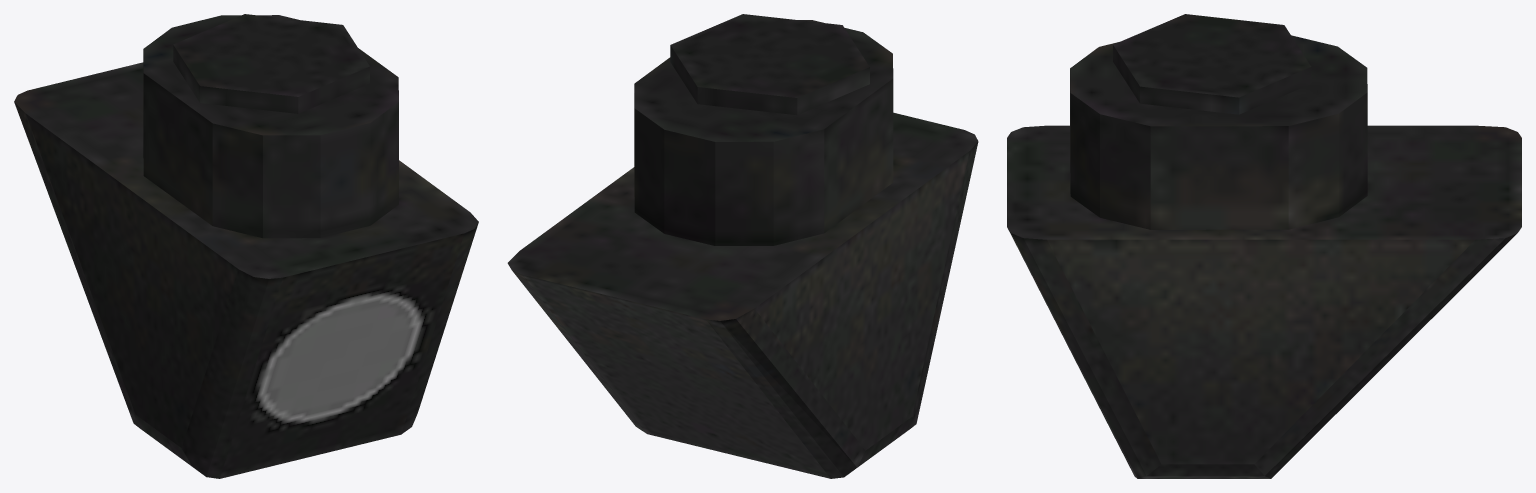
The picture shows the model from 3 angles, left to right: view 1: azimuth 30°, elevation 25°; view 2: azimuth 150°, elevation 25°; view 3: azimuth 270°, elevation 25°; orthographic projection.
Visible parts, largest first — view 1: TW_5a6f58f68dc32e000a311390_PZ_Import; view 2: TW_5a6f58f68dc32e000a311390_PZ_Import; view 3: TW_5a6f58f68dc32e000a311390_PZ_Import.
Part boxes in pixels (x1,y1,x2,y2): TW_5a6f58f68dc32e000a311390_PZ_Import: [14, 14, 478, 478]; TW_5a6f58f68dc32e000a311390_PZ_Import: [507, 14, 978, 478]; TW_5a6f58f68dc32e000a311390_PZ_Import: [1007, 14, 1521, 478].
Size of the model in its own units: 0.00213 by 0.00406 by 0.00327.
Materials: 1 (1 with a texture image).
